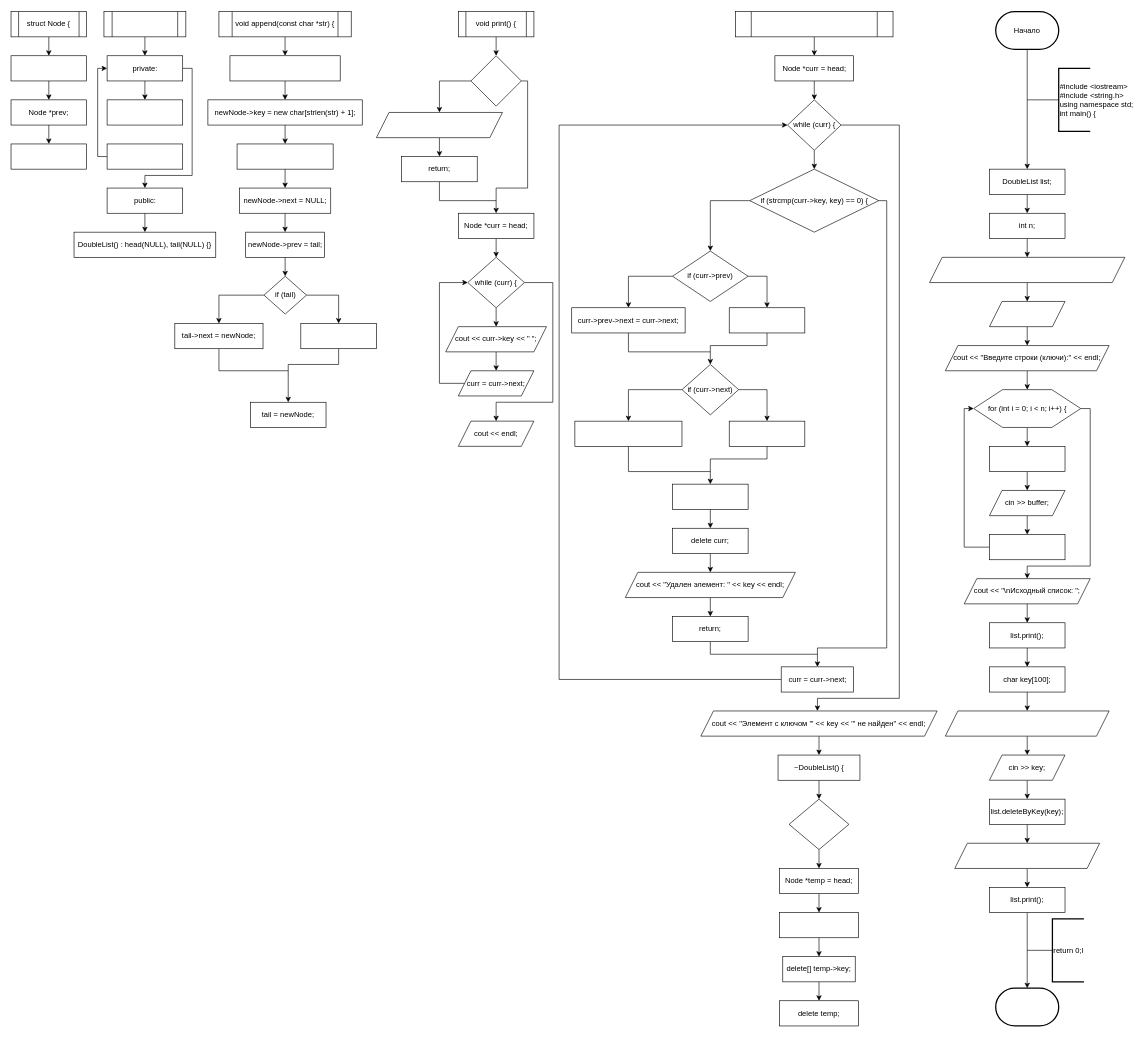
This 1145x1037 diagram has some shape labels left out. The shapes that lost their labels are listed below. From the top down, each one's box as (x1, y1, x2, y2) in pixels, then its label:
(103, 11, 186, 37): class DoubleList {
(735, 11, 893, 37): void deleteByKey(const char *key) {
(10, 55, 87, 81): char* key;
(229, 55, 340, 81): Node *newNode = new Node;
(470, 55, 521, 106): if (!head) {
(106, 99, 183, 125): Node *head;
(376, 112, 502, 138): cout << "Список пуст" << endl;
(10, 143, 87, 169): Node *next;
(106, 143, 183, 169): Node *tail;
(236, 143, 333, 169): strcpy(newNode->key, str);
(929, 257, 1125, 283): cout << "Введите количество элементов списка: ";
(729, 307, 805, 333): head = curr->next;
(989, 301, 1065, 327): cin >> n;
(300, 323, 376, 349): head = newNode;
(574, 421, 682, 446): curr->next->prev = curr->prev;
(729, 421, 805, 446): tail = curr->prev;
(989, 446, 1065, 472): char buffer[100];
(672, 484, 748, 509): delete[] curr->key;
(989, 534, 1065, 560): list.append(buffer);
(945, 710, 1109, 736): cout << "\nВведите ключ для удаления: ";
(788, 799, 849, 850): while (head) {
(954, 843, 1100, 868): cout << "Список после удаления: ";
(779, 912, 858, 938): head = head->next;
(995, 987, 1059, 1026): Конец
